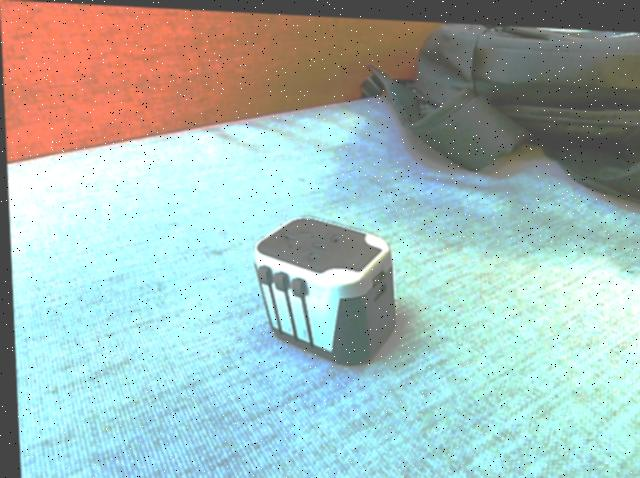adapter: (249, 210, 395, 363)
